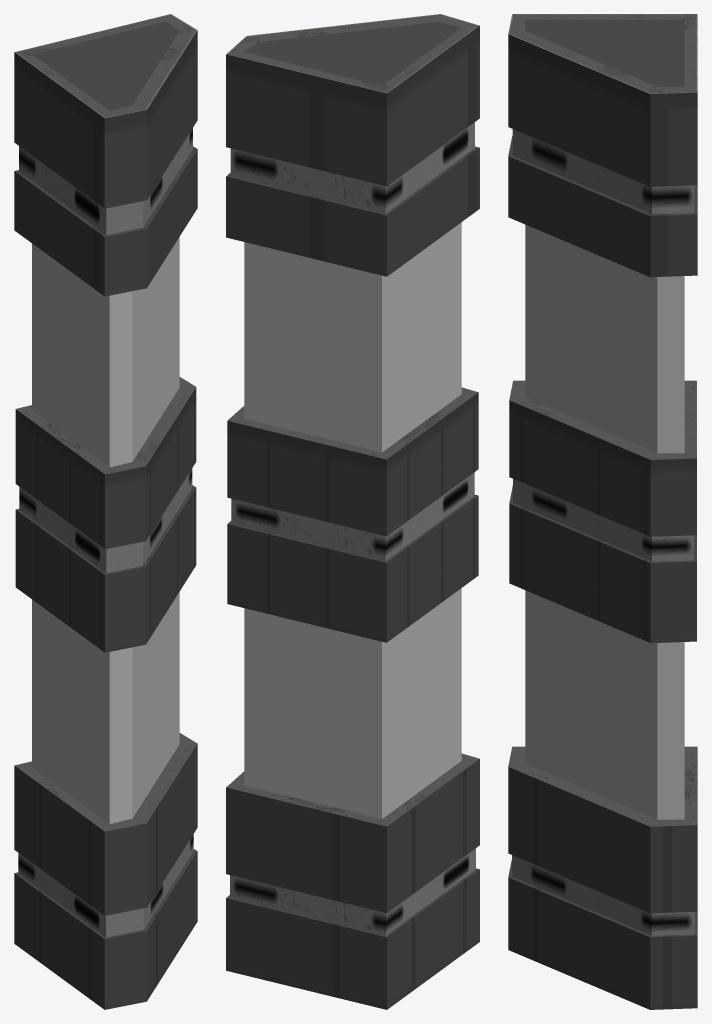
File: SM_ModularShipInterior_Corner1.fbx
3 views of the same model, side by side, from view 1: azimuth 30°, elevation 25°; view 2: azimuth 150°, elevation 25°; view 3: azimuth 270°, elevation 25° (orthographic). The views are drawn at different scales.
Parts seen in each view (by area): view 1: CornerWall1; view 2: CornerWall1; view 3: CornerWall1.
Boxes of the visible parts, box(x1,y1,x2,y2) form: CornerWall1: box(14, 14, 197, 1009); CornerWall1: box(226, 14, 479, 1009); CornerWall1: box(508, 14, 697, 1009).
Size of the model in its own units: 37.42 by 37.42 by 199.
